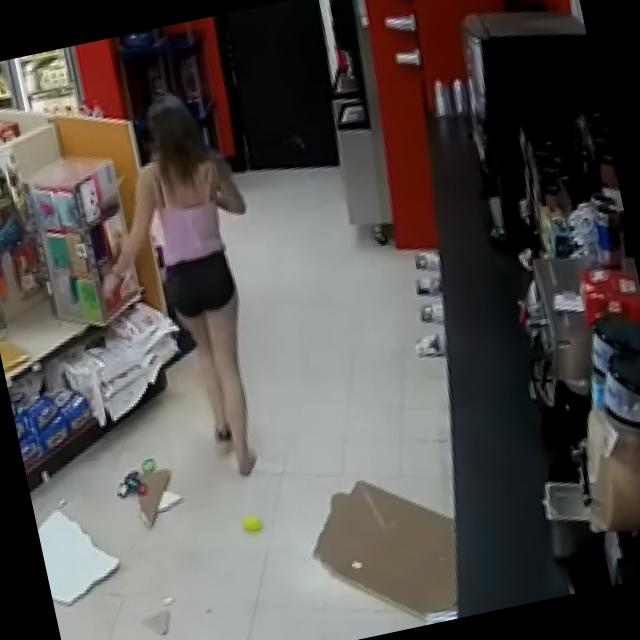person: (68, 83, 302, 497)
